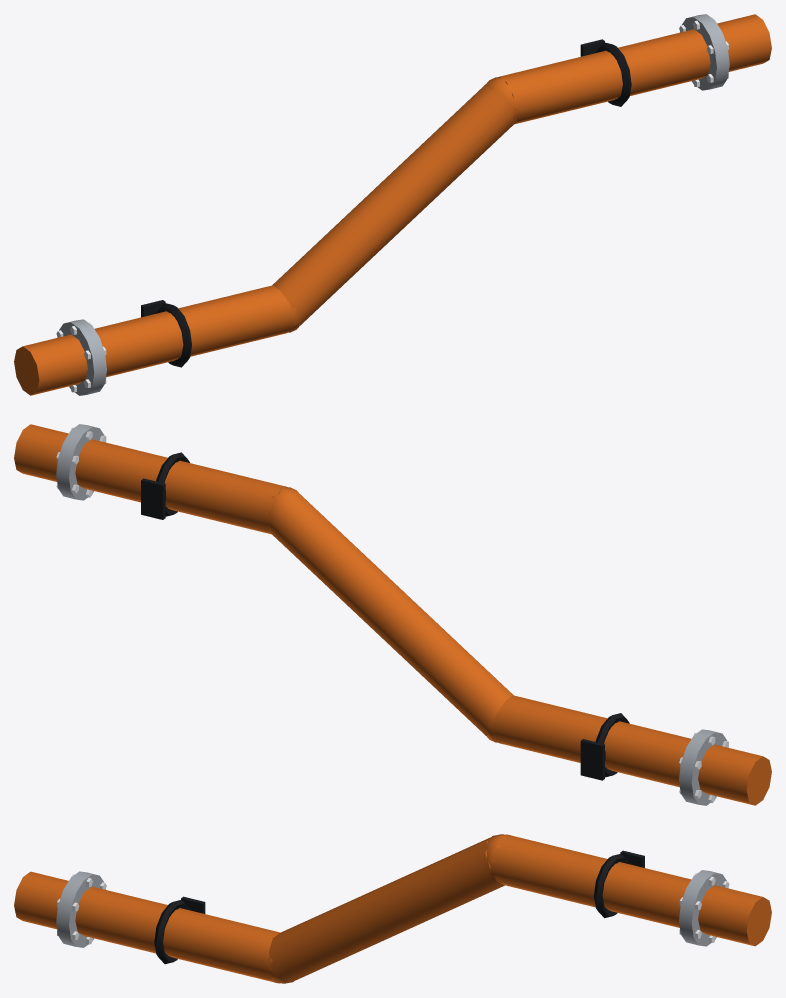
Rendered from pipe_elbow_jog.glb.
3 renders of one model, top to bottom at view 1: azimuth 30°, elevation 25°; view 2: azimuth 150°, elevation 25°; view 3: azimuth 330°, elevation 25°, orthographic.
Visible parts, largest first — view 1: pipe_elbow_jog; view 2: pipe_elbow_jog; view 3: pipe_elbow_jog.
Boxes of the visible parts, <box> form: pipe_elbow_jog: <box>14,14,771,395</box>; pipe_elbow_jog: <box>14,424,771,805</box>; pipe_elbow_jog: <box>14,834,771,983</box>.
Bounding box in the file's own units: 2 × 0.5755 × 0.19.
